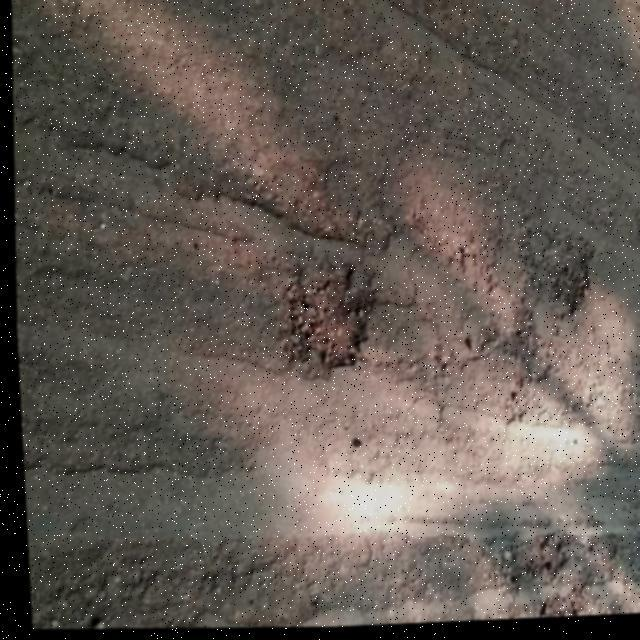pothole: (242, 230, 396, 398), (485, 222, 603, 386), (476, 500, 602, 624)
